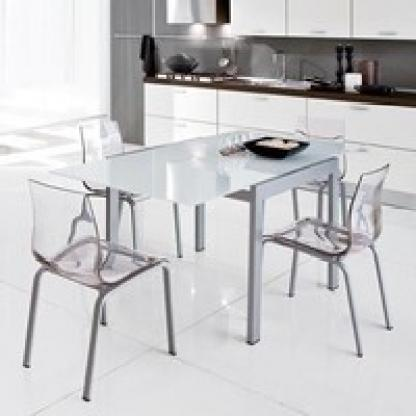chair: (18, 172, 179, 406), (250, 159, 403, 364), (64, 109, 164, 247), (270, 110, 349, 224)
table: (76, 128, 338, 362)
